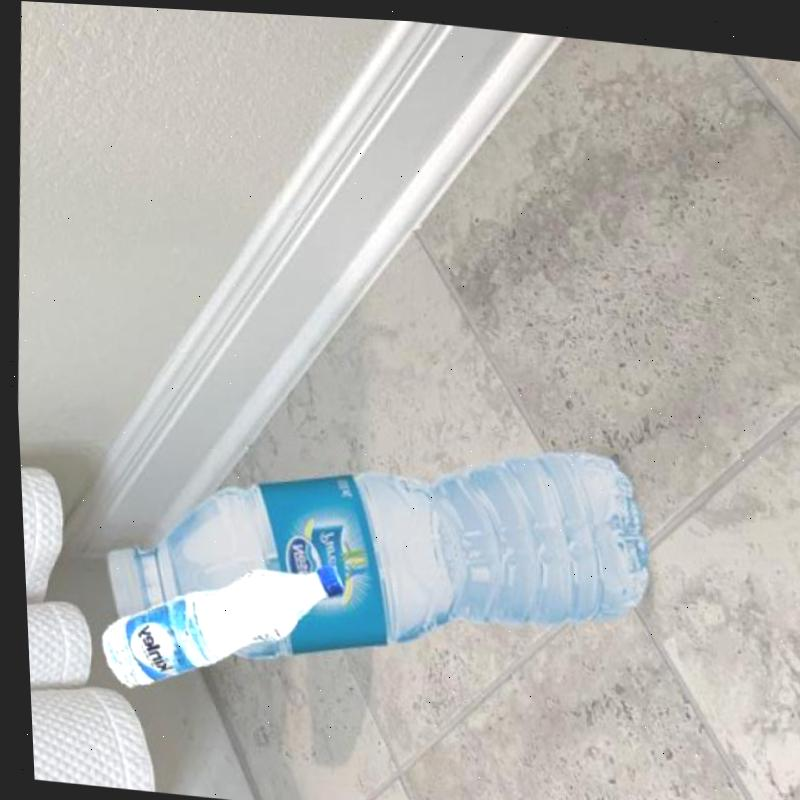botella: (87, 397, 648, 690), (83, 543, 338, 713)
